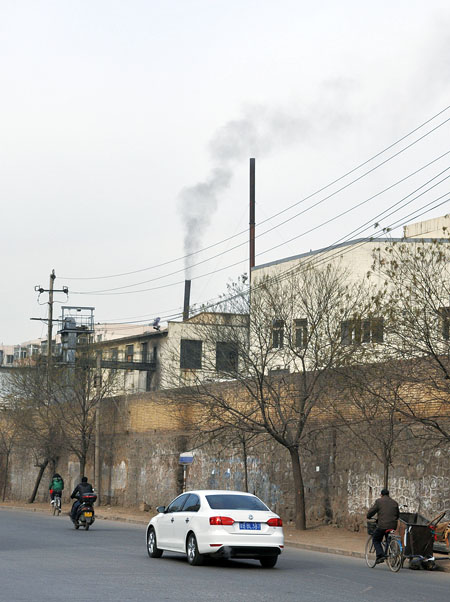dust: (169, 101, 246, 287)
